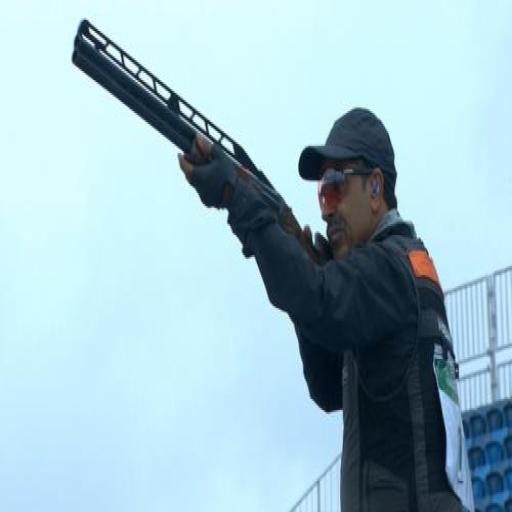shooting: (177, 104, 477, 510)
